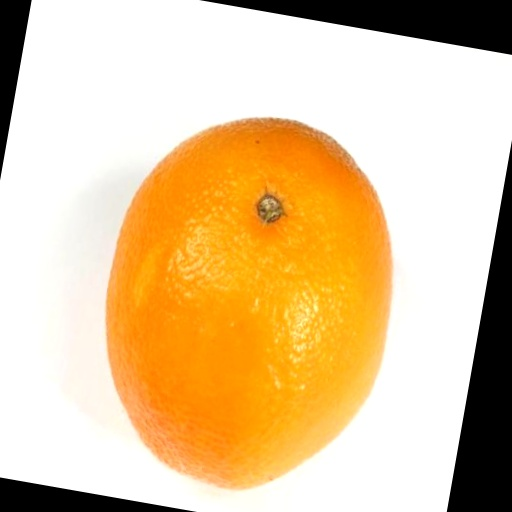fruit: (107, 118, 391, 488)
